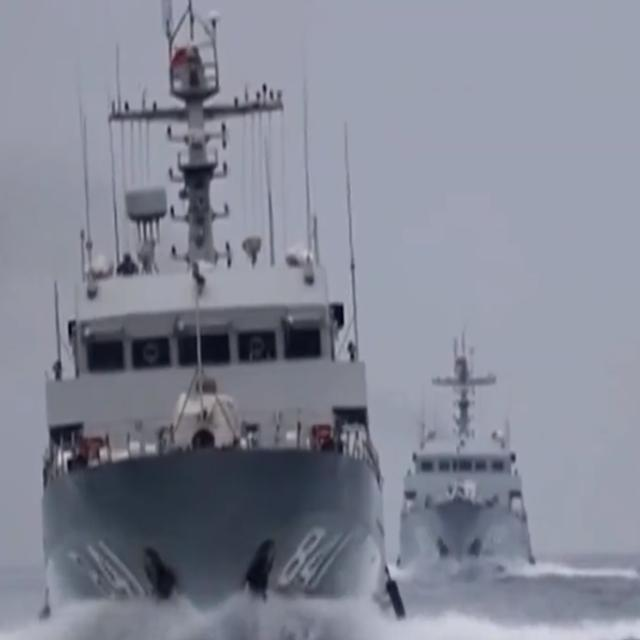navalvessels: (36, 0, 394, 612), (388, 331, 541, 588)
